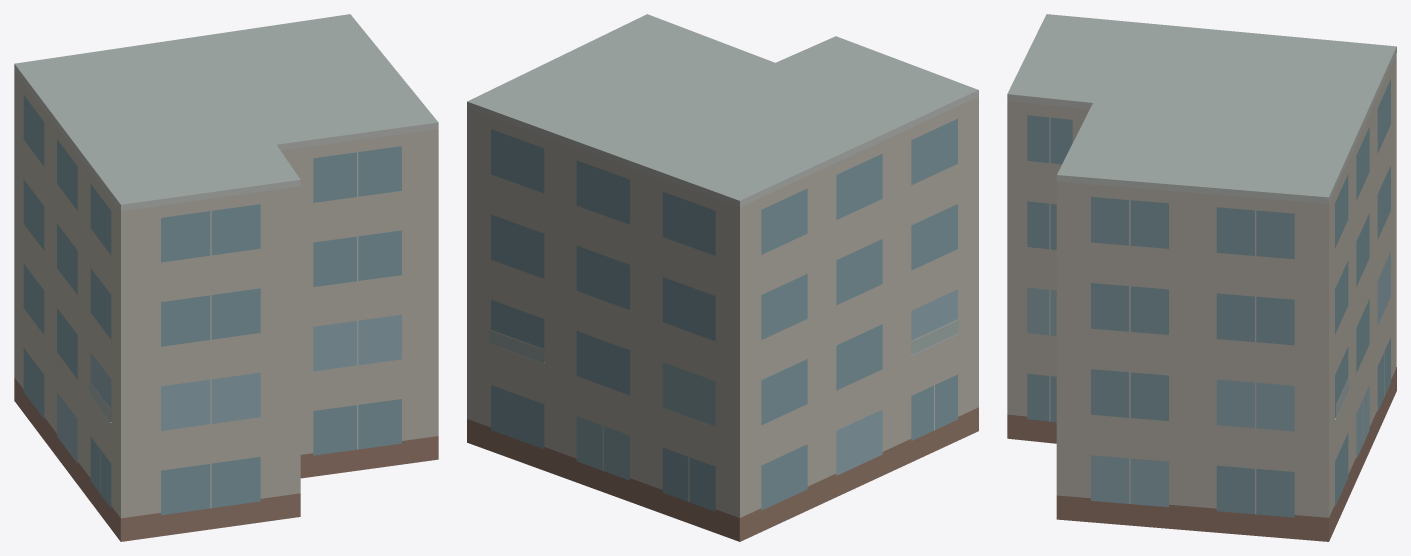
Rendered from survey-upis-32937541.glb.
3 views of the same model, side by side, from view 1: azimuth 30°, elevation 25°; view 2: azimuth 150°, elevation 25°; view 3: azimuth 270°, elevation 25° (orthographic). The views are drawn at different scales.
Visible parts, largest first — view 1: survey-upis-32937541.tmp; view 2: survey-upis-32937541.tmp; view 3: survey-upis-32937541.tmp.
Part boxes in pixels (<box>): survey-upis-32937541.tmp: <box>14,14,438,541</box>; survey-upis-32937541.tmp: <box>467,14,978,541</box>; survey-upis-32937541.tmp: <box>1007,14,1396,541</box>.
Bounding box in the file's own units: 14.56 × 12.75 × 13.08.
